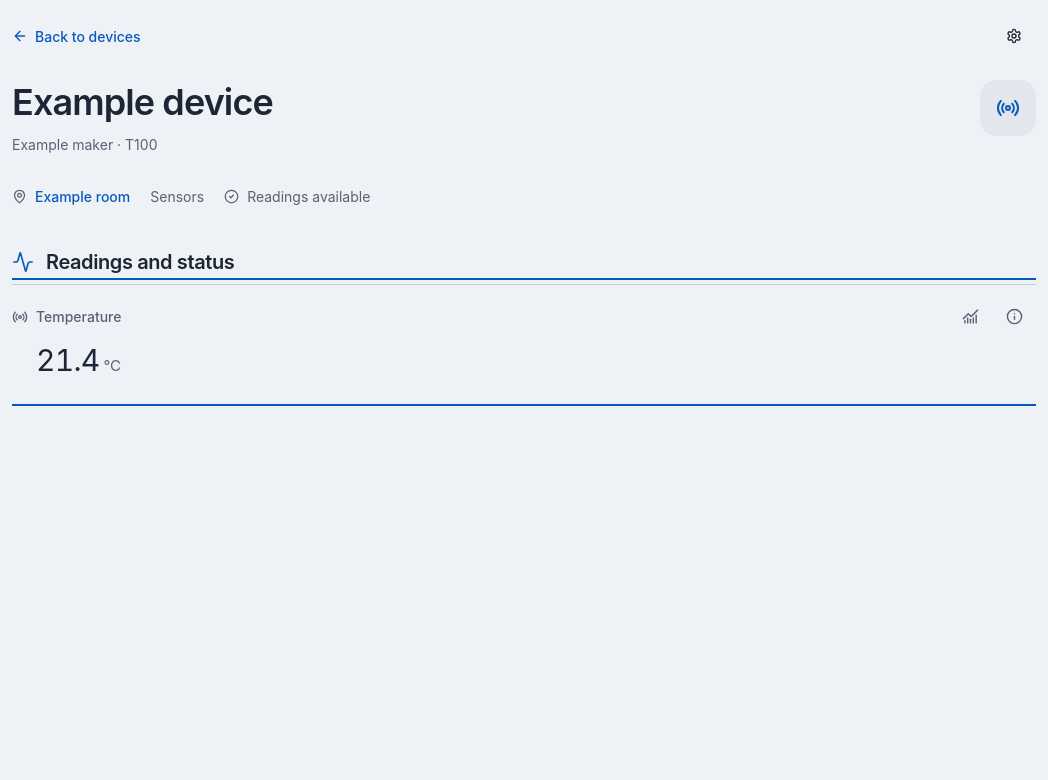
Test: opens reading history and technical details from named icons and preserves deep links
Click the heading named "History for Temperature": (970, 317) x1=962 y1=308 x2=978 y2=325
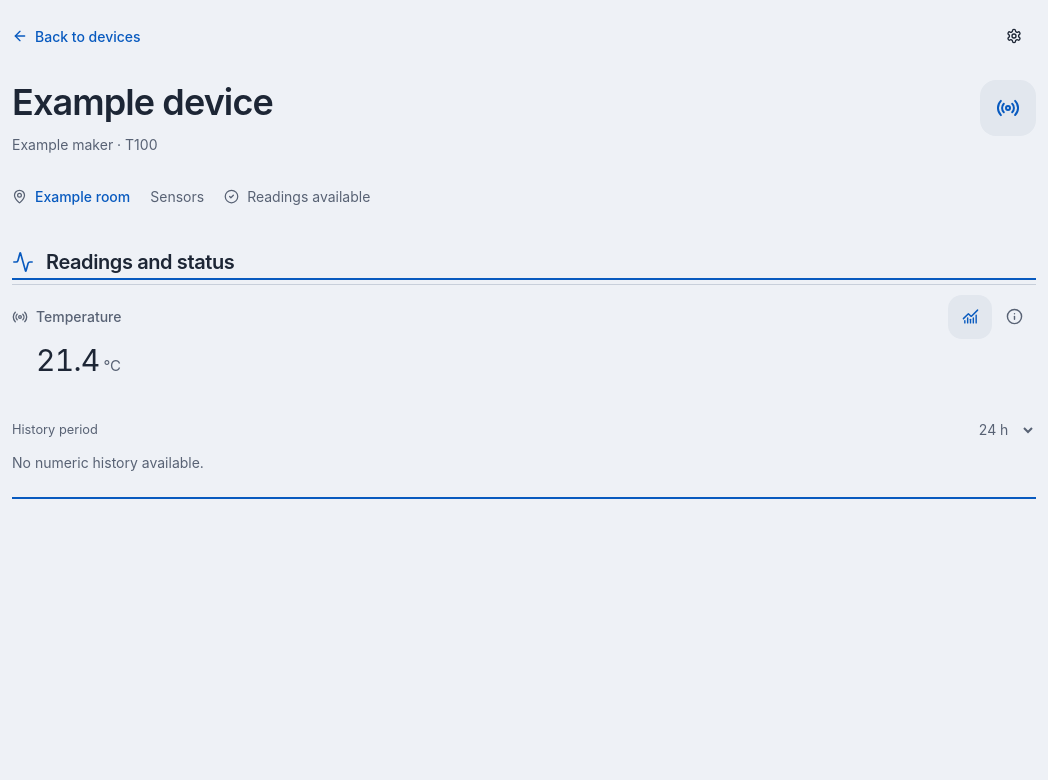
Check: the text "No numeric history available." is shown, box x1=12 y1=454 x2=204 y2=471
Select "7 d" in the dropdown labelled "History period": (1000, 430) x1=964 y1=408 x2=1036 y2=452
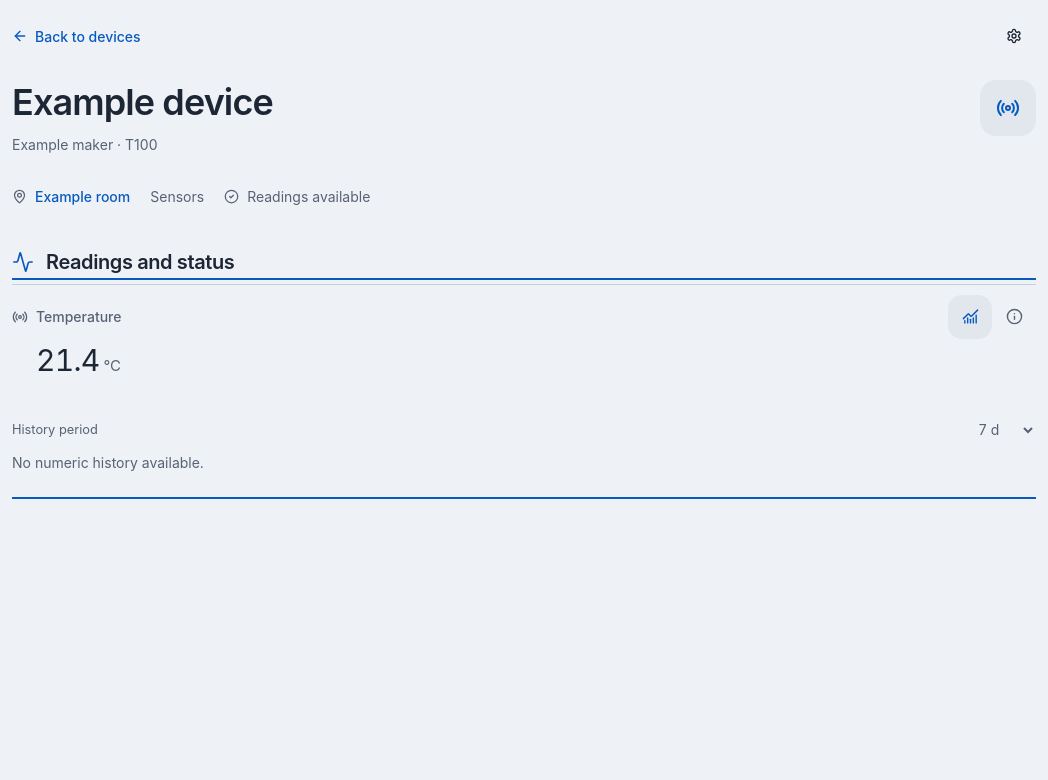
Check: the text "Entity ID" is not shown
Click the heading named "Technical details for Temperature": (1014, 317) x1=1006 y1=308 x2=1022 y2=325
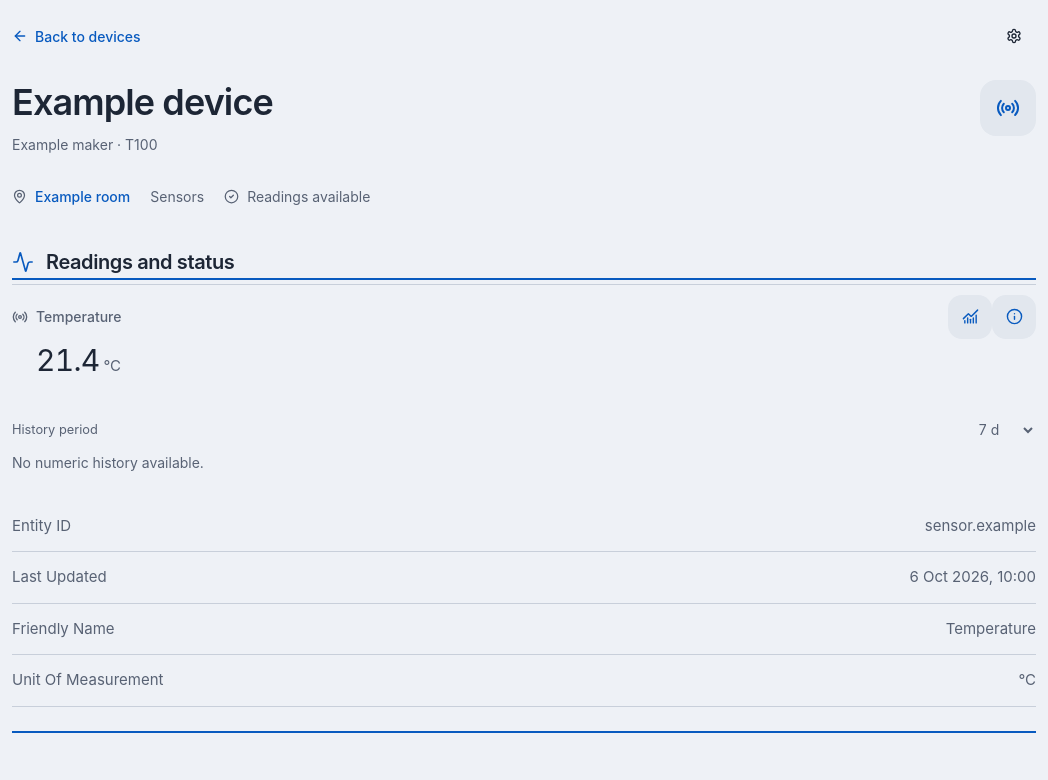
Check: the text "Entity ID" is shown, box x1=12 y1=515 x2=71 y2=537
